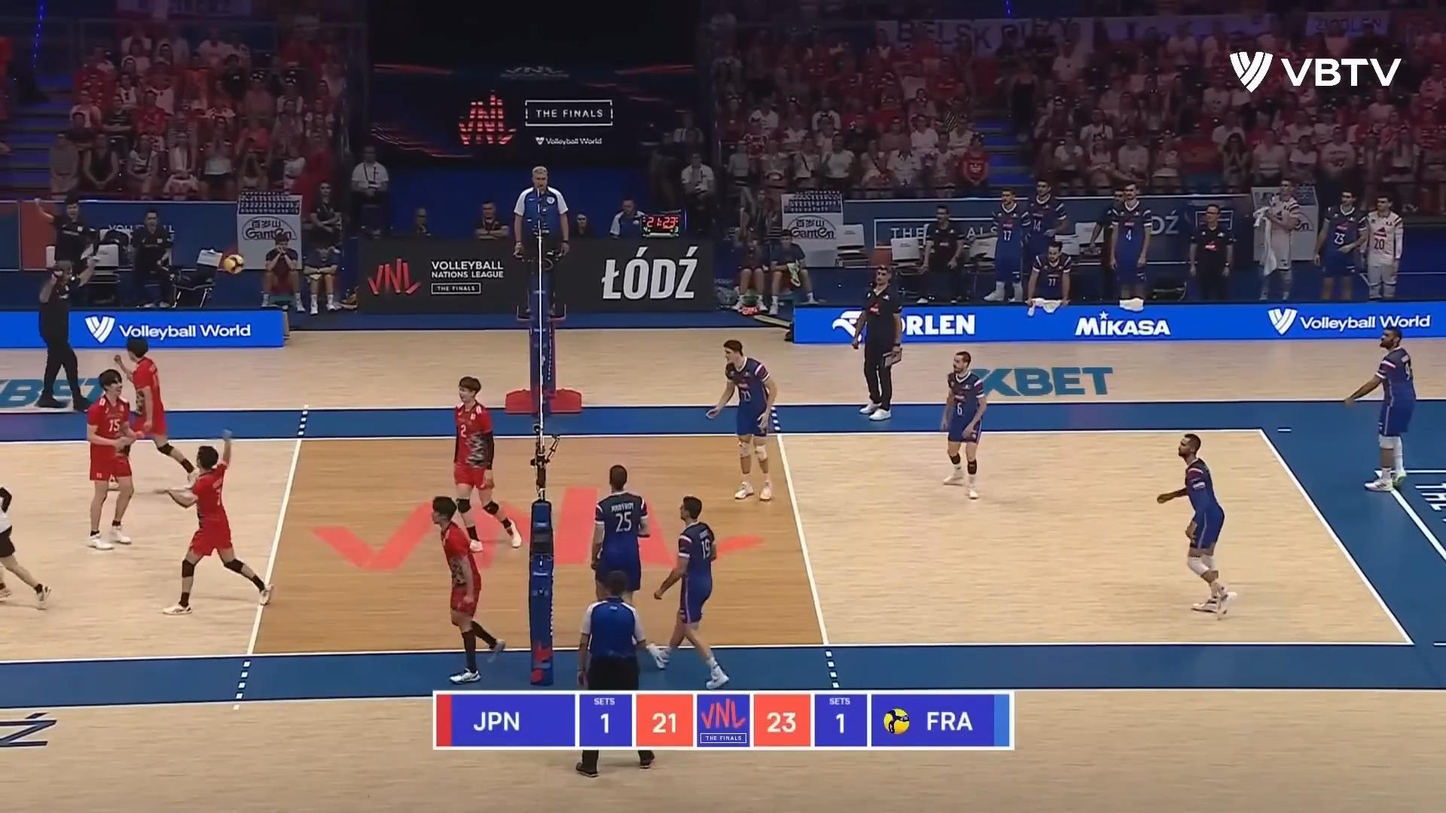ball: (224, 253, 247, 274)
